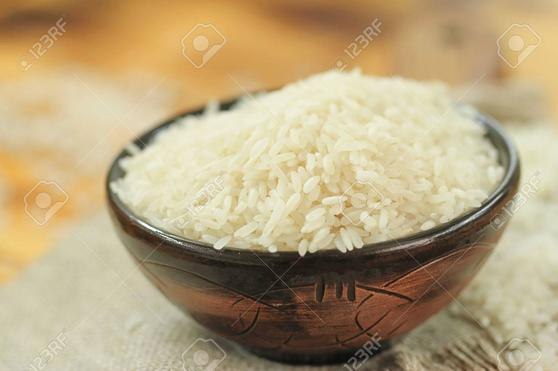rice: (129, 73, 503, 246)
